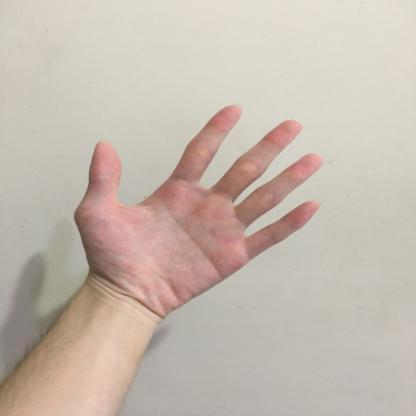bare_hand: (68, 100, 332, 328)
